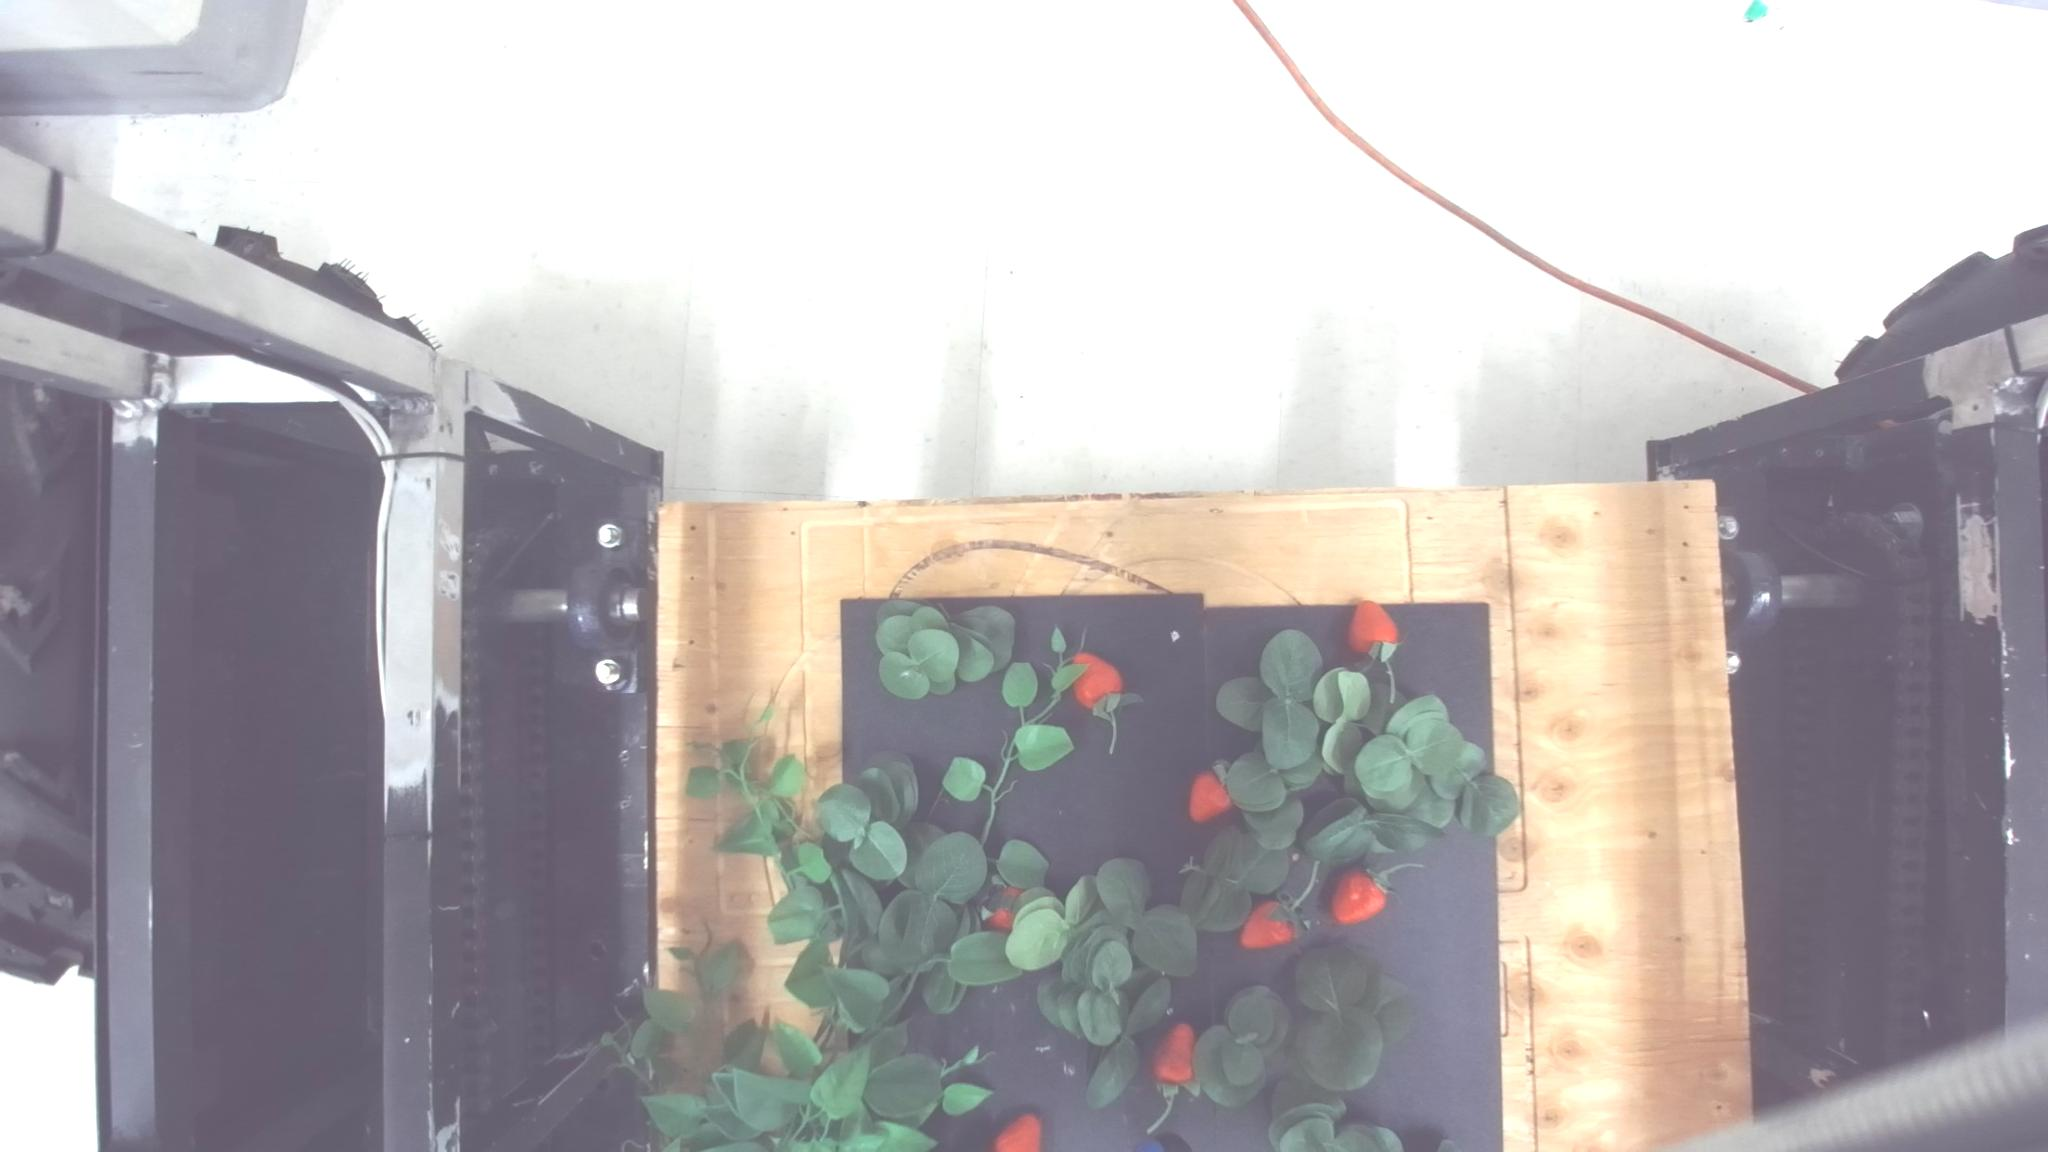mature: (1346, 598, 1400, 663), (1331, 866, 1388, 926), (1238, 899, 1303, 949), (1066, 650, 1121, 709), (1151, 1021, 1196, 1084), (1187, 767, 1232, 823), (993, 1113, 1041, 1151), (980, 907, 1014, 933), (990, 883, 1023, 897)
